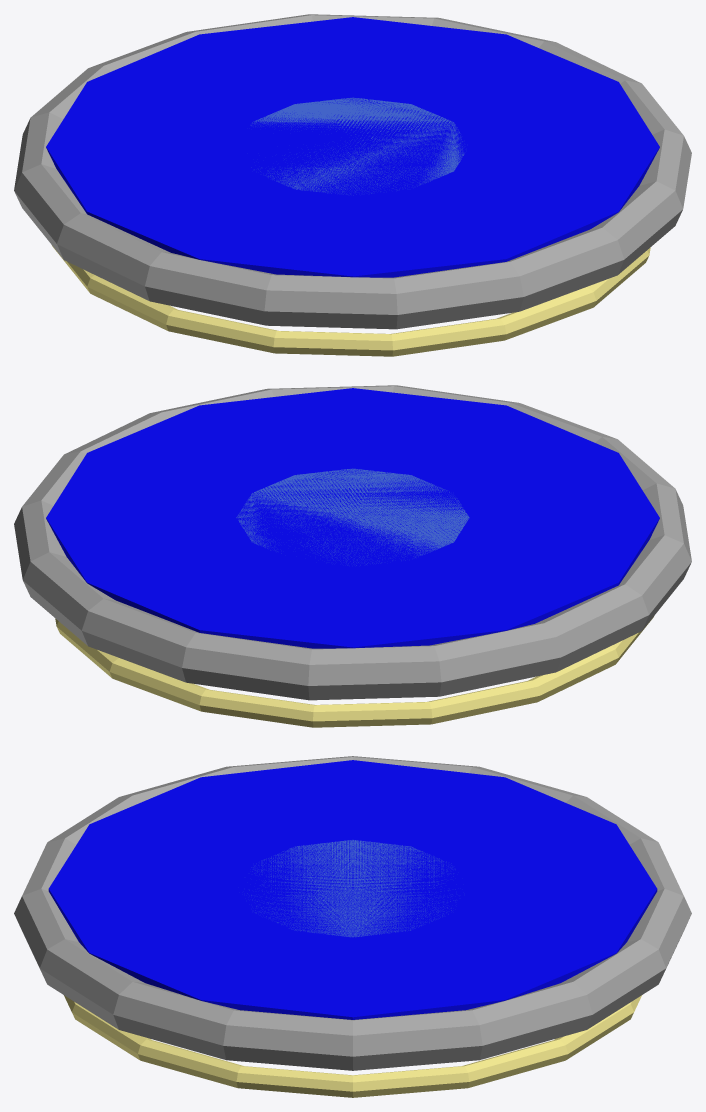
Rendered from RIGHT-LARGE_link_mesh.dae.
3 renders of one model, top to bottom at view 1: azimuth 30°, elevation 25°; view 2: azimuth 150°, elevation 25°; view 3: azimuth 270°, elevation 25°, orthographic.
Visible parts, largest first — view 1: RIGHT-LARGE_link (×4); view 2: RIGHT-LARGE_link (×4); view 3: RIGHT-LARGE_link (×4).
Boxes of the visible parts, x1,y1,x2,y2 form: RIGHT-LARGE_link (×4): (14,14,691,356); RIGHT-LARGE_link (×4): (14,385,691,727); RIGHT-LARGE_link (×4): (14,756,691,1097).
Bounding box in the file's own units: 0.557 × 0.0775 × 0.557.
